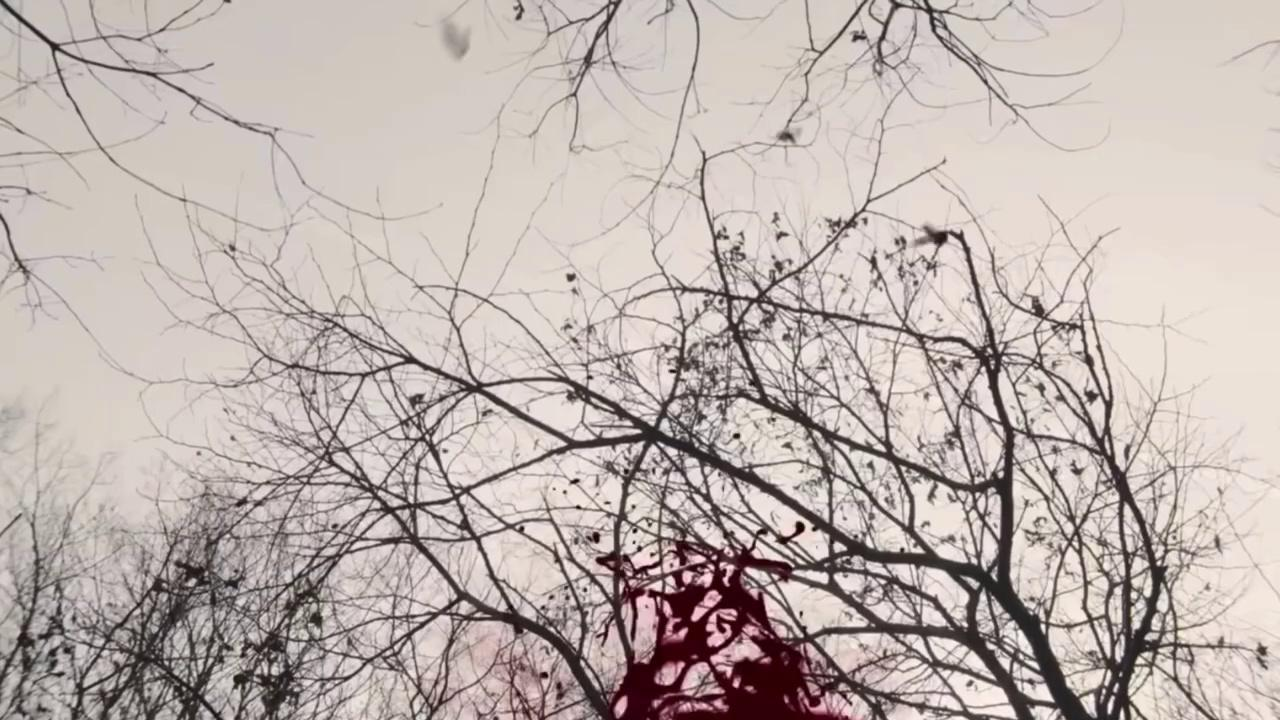Fire: (611, 542, 844, 720)
